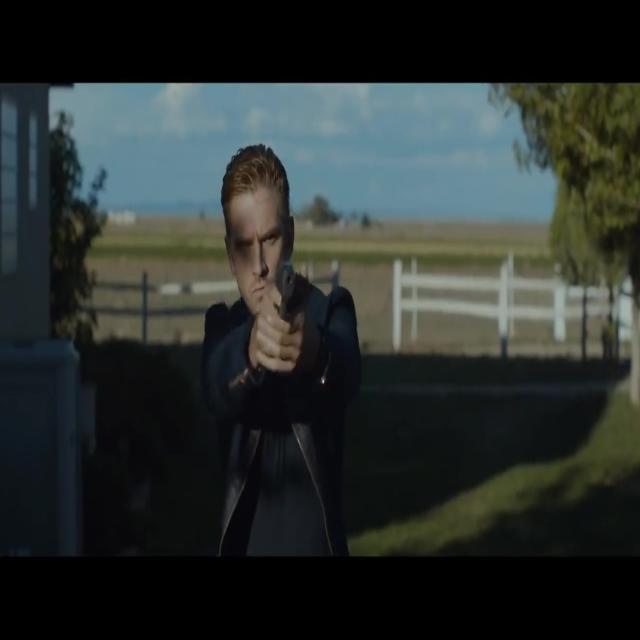Weapon: (267, 240, 311, 343)
